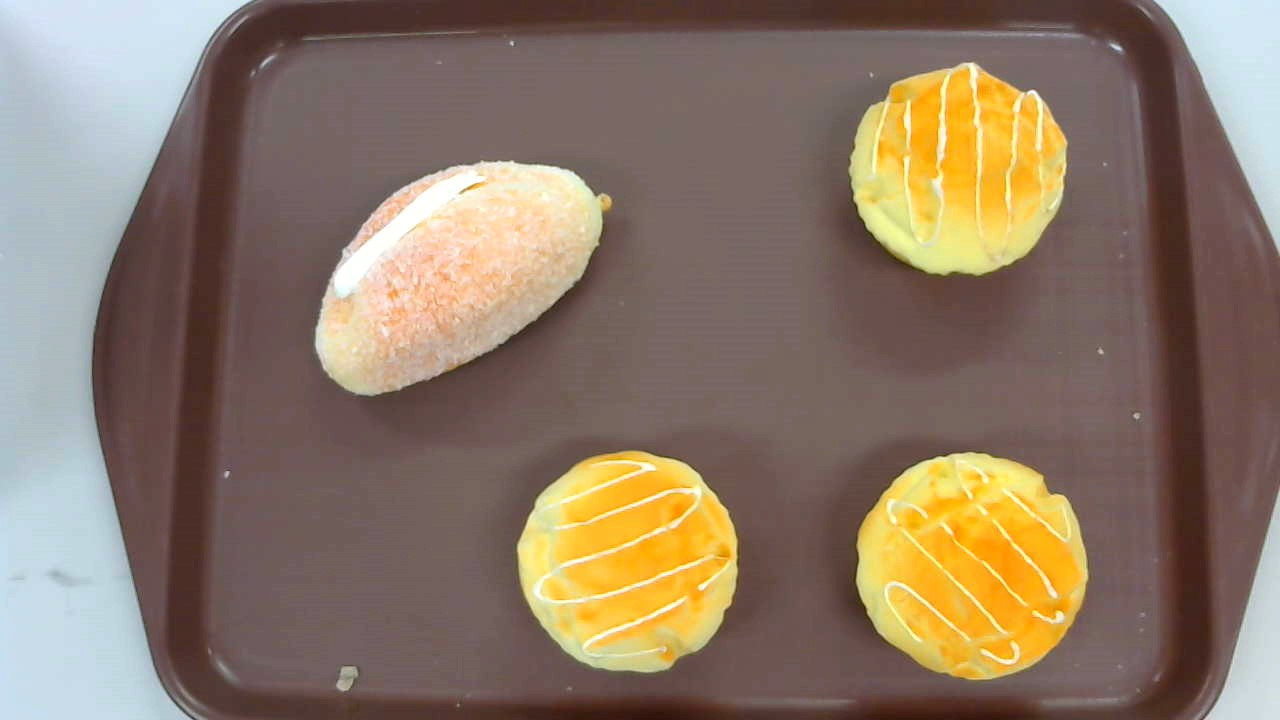coconut: (314, 159, 614, 396)
cupcake: (855, 452, 1090, 682), (516, 448, 739, 674), (848, 61, 1068, 278)
